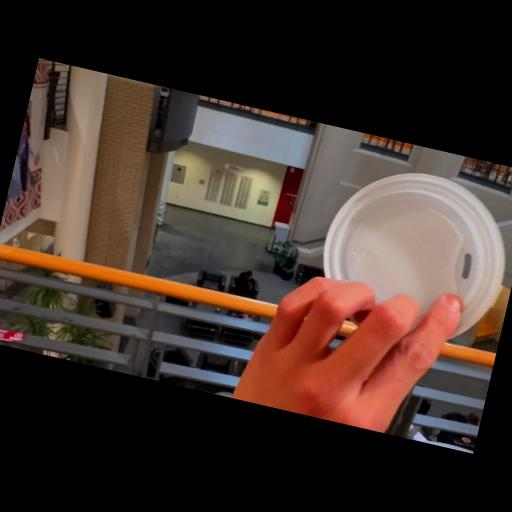lp_paper_cup: (310, 153, 512, 352)
